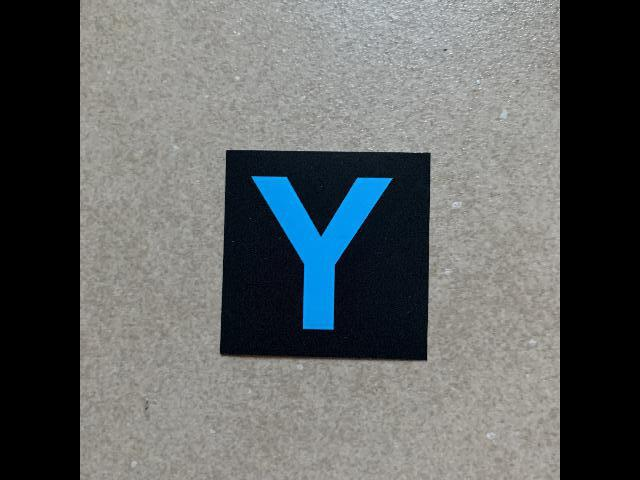alphabet_y: (218, 148, 432, 364)
